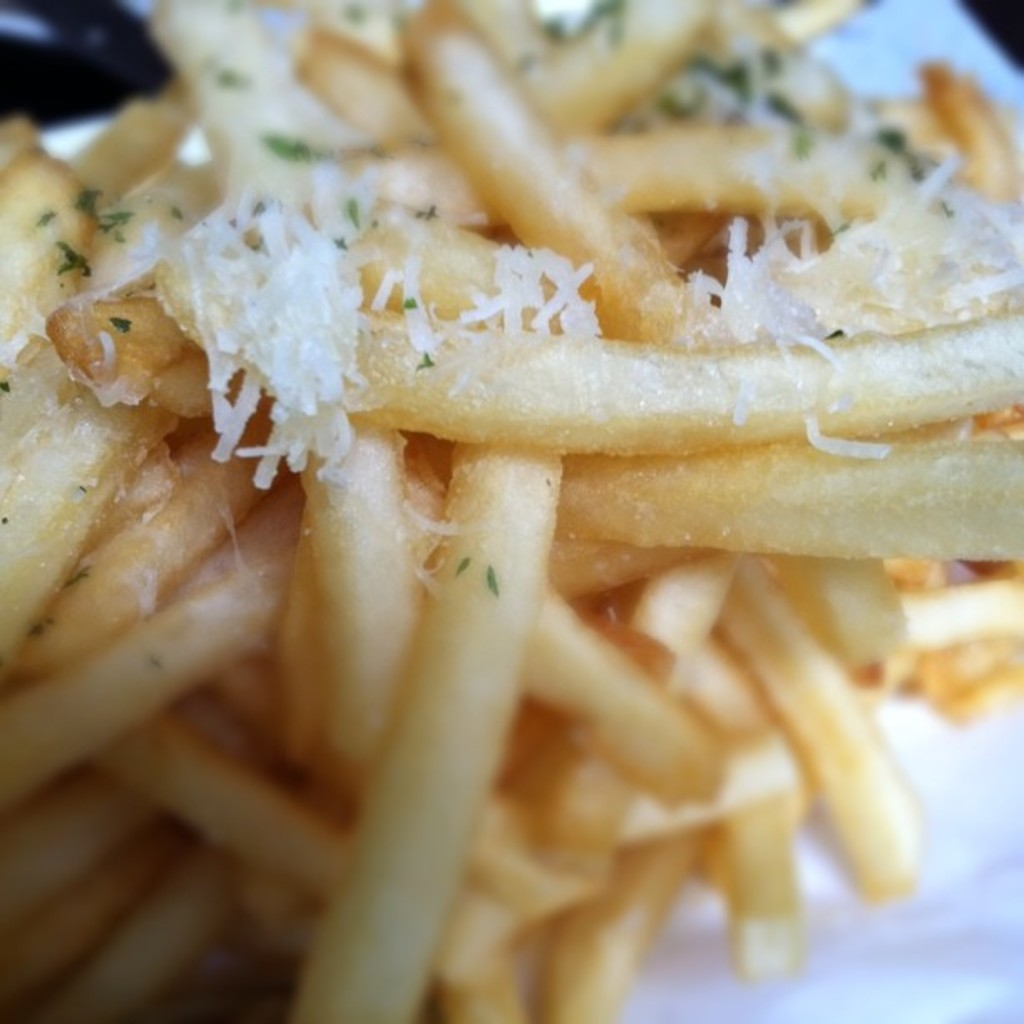French fries: (0, 0, 1022, 1022)
